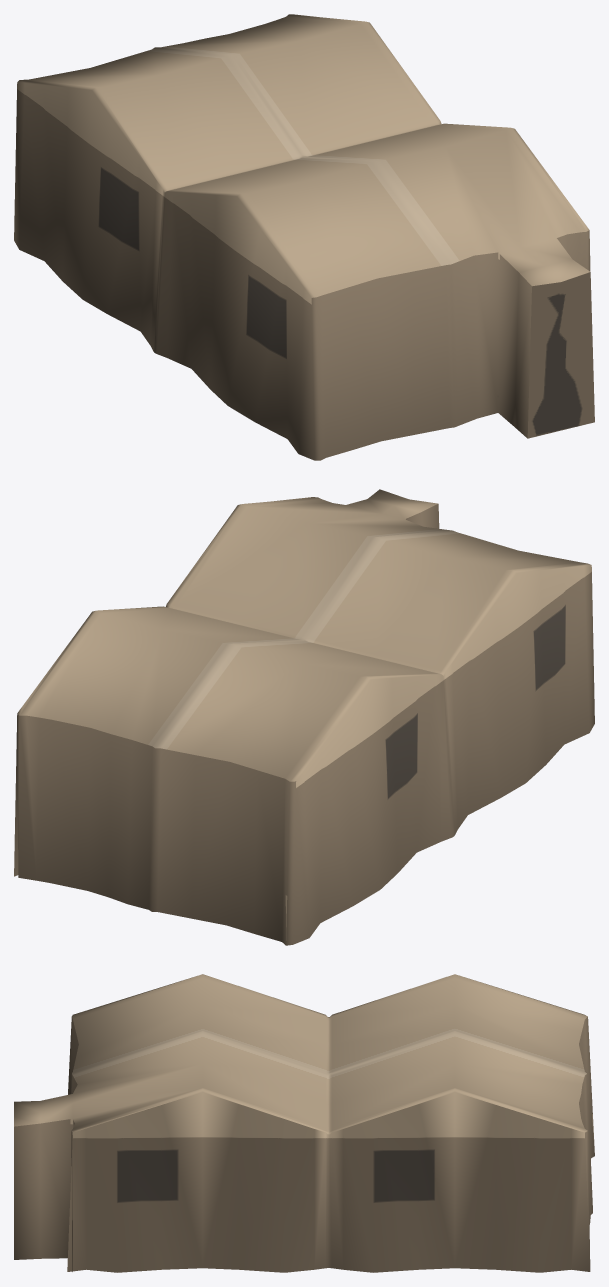
The model's file is Tent.DAE.
3 views of the same model, one above another, from view 1: azimuth 30°, elevation 25°; view 2: azimuth 150°, elevation 25°; view 3: azimuth 270°, elevation 25° (orthographic). The views are drawn at different scales.
Visible parts, largest first — view 1: Tent; view 2: Tent; view 3: Tent.
Part boxes in pixels (x1=…): Tent: x1=14, y1=14, x2=594, y2=460; Tent: x1=14, y1=489, x2=594, y2=945; Tent: x1=14, y1=974, x2=594, y2=1272.
Size of the model in its own units: 1117 by 772 by 2236.
1 material, 1 textured.
